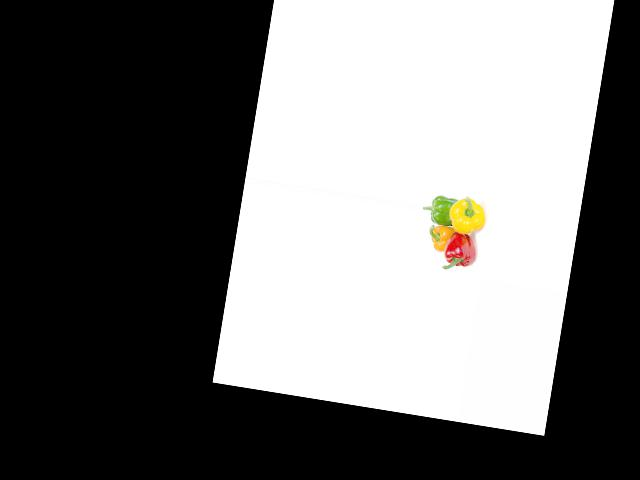bell_pepper: (446, 192, 490, 238)
